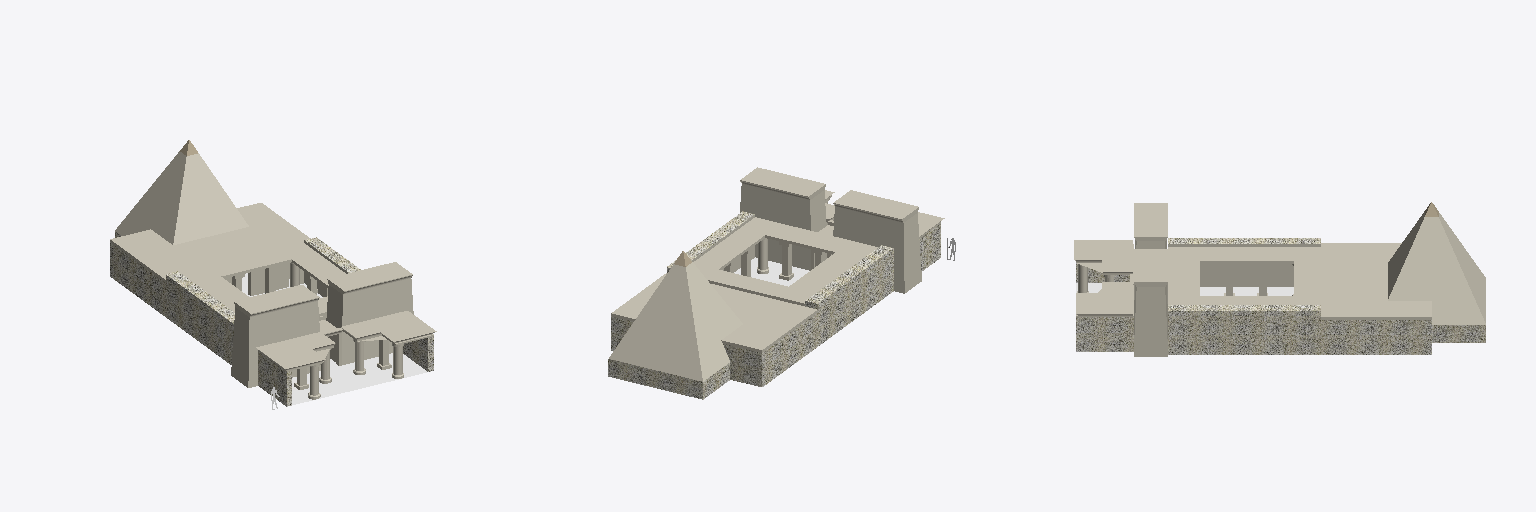
The picture shows the model from 3 angles: view 1: azimuth 30°, elevation 25°; view 2: azimuth 150°, elevation 25°; view 3: azimuth 270°, elevation 25°; orthographic projection.
Parts seen in each view (by area): view 1: Mesh32 total1 Model, Mesh1 ROOF1 Model, Mesh35 Model, Mesh3 Component_1_1 Model, Mesh2 Component_1_1 Model, Mesh34 Model, Mesh33 Model, Mesh23 pylongateway1 total1 Model; view 2: Mesh32 total1 Model, Mesh35 Model, Mesh1 ROOF1 Model, Mesh33 Model, Mesh34 Model; view 3: Mesh32 total1 Model, Mesh1 ROOF1 Model, Mesh35 Model, Mesh2 Component_1_1 Model, Mesh3 Component_1_1 Model, Mesh33 Model, Mesh34 Model.
Part boxes in pixels (left/top/right/bottom): Mesh32 total1 Model: left=110, top=237, right=433, bottom=406; Mesh1 ROOF1 Model: left=110, top=203, right=345, bottom=316; Mesh35 Model: left=115, top=140, right=248, bottom=244; Mesh3 Component_1_1 Model: left=341, top=311, right=436, bottom=344; Mesh2 Component_1_1 Model: left=256, top=332, right=335, bottom=371; Mesh34 Model: left=327, top=262, right=412, bottom=294; Mesh33 Model: left=234, top=285, right=319, bottom=317; Mesh23 pylongateway1 total1 Model: left=319, top=316, right=342, bottom=365; Mesh32 total1 Model: left=611, top=184, right=940, bottom=386; Mesh35 Model: left=608, top=251, right=742, bottom=399; Mesh1 ROOF1 Model: left=611, top=217, right=877, bottom=352; Mesh33 Model: left=833, top=190, right=918, bottom=222; Mesh34 Model: left=740, top=167, right=825, bottom=199; Mesh32 total1 Model: left=1076, top=238, right=1431, bottom=356; Mesh1 ROOF1 Model: left=1168, top=243, right=1431, bottom=319; Mesh35 Model: left=1388, top=202, right=1485, bottom=342; Mesh2 Component_1_1 Model: left=1074, top=240, right=1133, bottom=274; Mesh3 Component_1_1 Model: left=1076, top=282, right=1133, bottom=316; Mesh33 Model: left=1134, top=203, right=1167, bottom=240; Mesh34 Model: left=1134, top=249, right=1167, bottom=286.
Size of the model in its own units: 12.61 by 8.22 by 26.04.
6 materials, 2 textured.